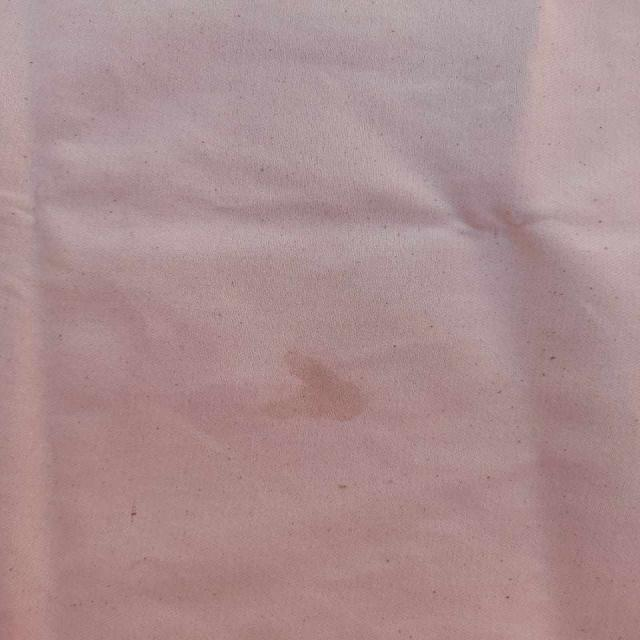taaaches: (256, 340, 386, 445)
